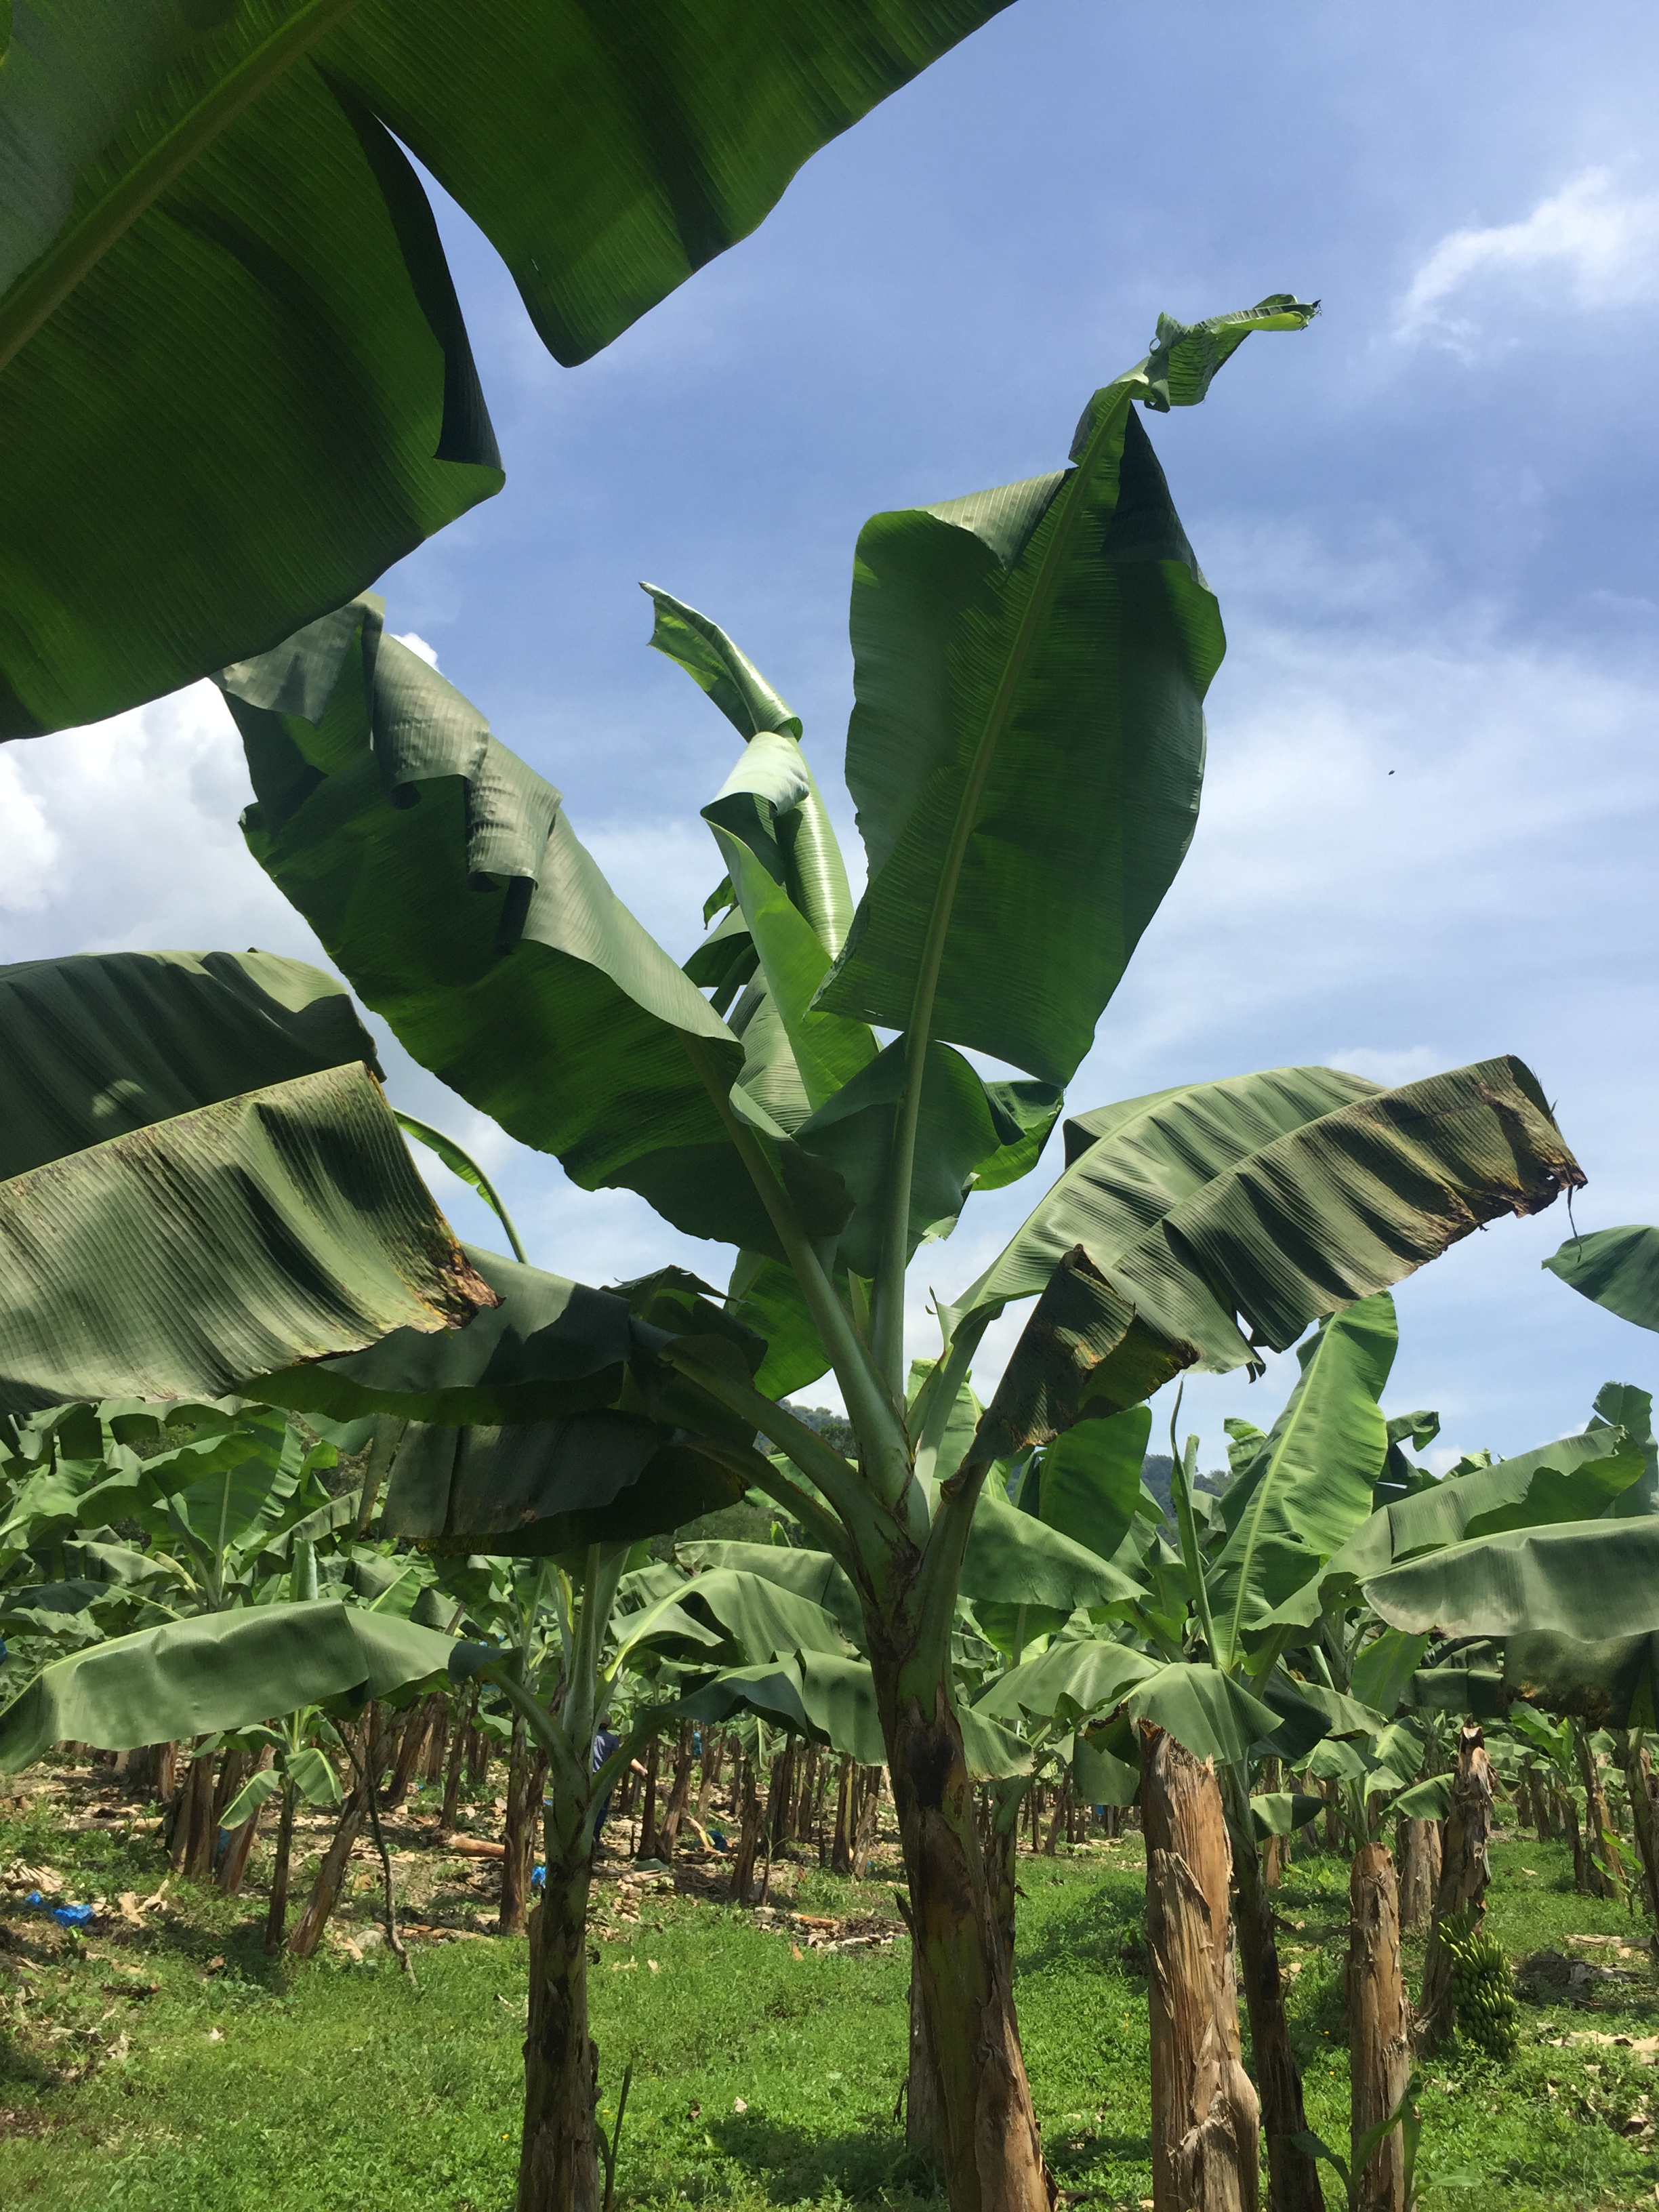candleleafs: (1171, 1378, 1220, 1669)
